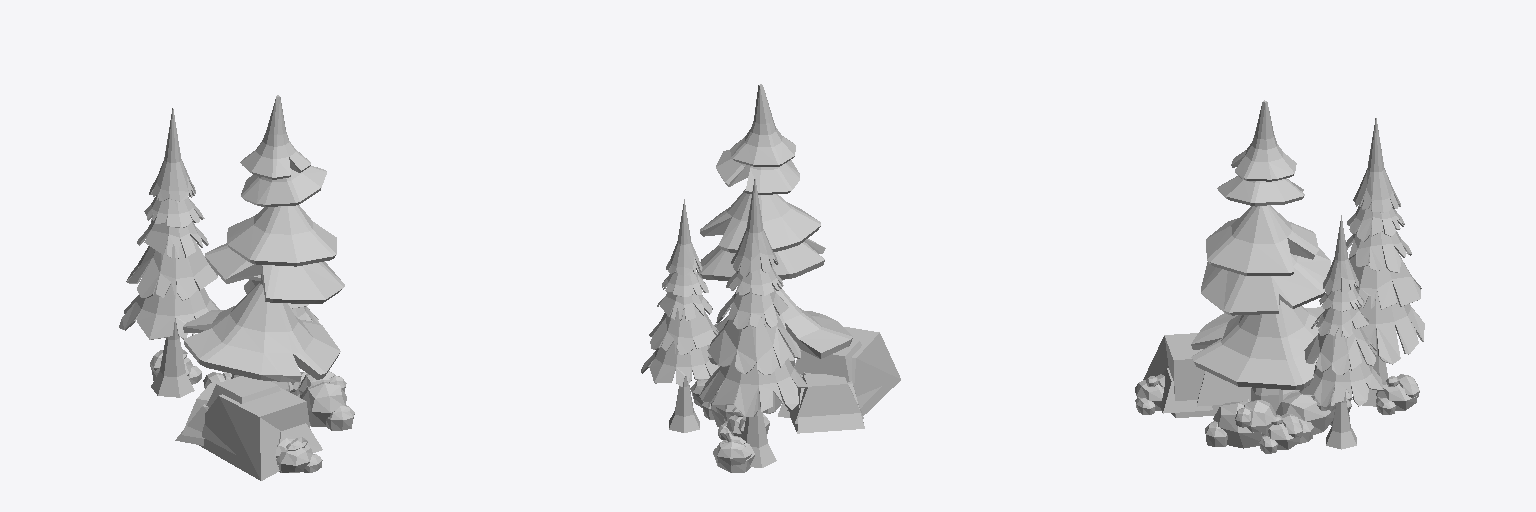
File: tree-set_snow-alive.obj
3 views of the same model, side by side, from view 1: azimuth 30°, elevation 25°; view 2: azimuth 150°, elevation 25°; view 3: azimuth 270°, elevation 25° (orthographic).
Visible parts, largest first — view 1: Cylinder.006, tree_pine_SC_04.001; view 2: Cylinder.006, tree_pine_SC_04.001; view 3: Cylinder.006, tree_pine_SC_04.001.
Part boxes in pixels (x1,y1,x2,y2): Cylinder.006: (119, 108, 354, 480); tree_pine_SC_04.001: (183, 95, 344, 391); Cylinder.006: (641, 179, 900, 472); tree_pine_SC_04.001: (697, 84, 852, 413); Cylinder.006: (1135, 118, 1424, 453); tree_pine_SC_04.001: (1191, 100, 1330, 412).
Bounding box in the file's own units: 3.8 × 6.61 × 5.37.